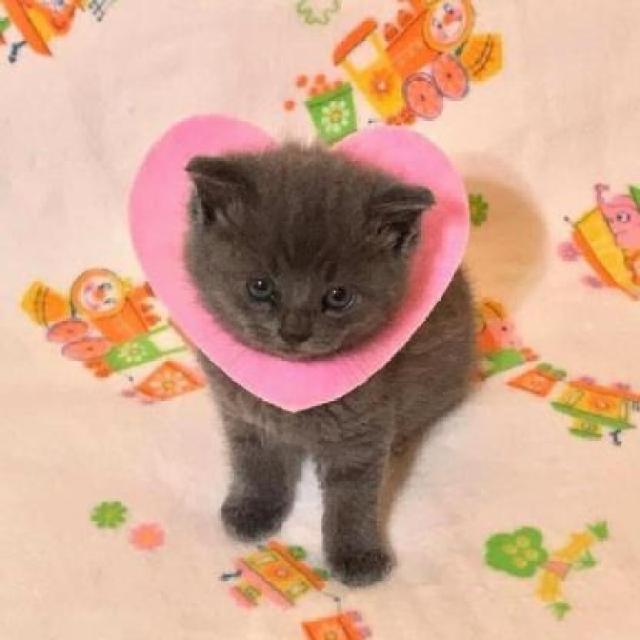cat: (174, 128, 521, 586)
